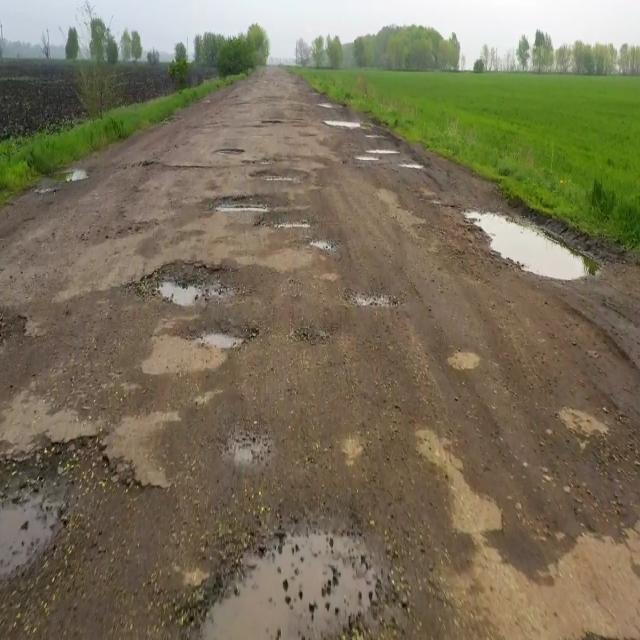road-pothole: (194, 538, 387, 639), (2, 468, 86, 583), (460, 215, 600, 280), (141, 263, 234, 309), (219, 196, 268, 220), (205, 323, 250, 349), (45, 170, 90, 186), (328, 117, 358, 130)
